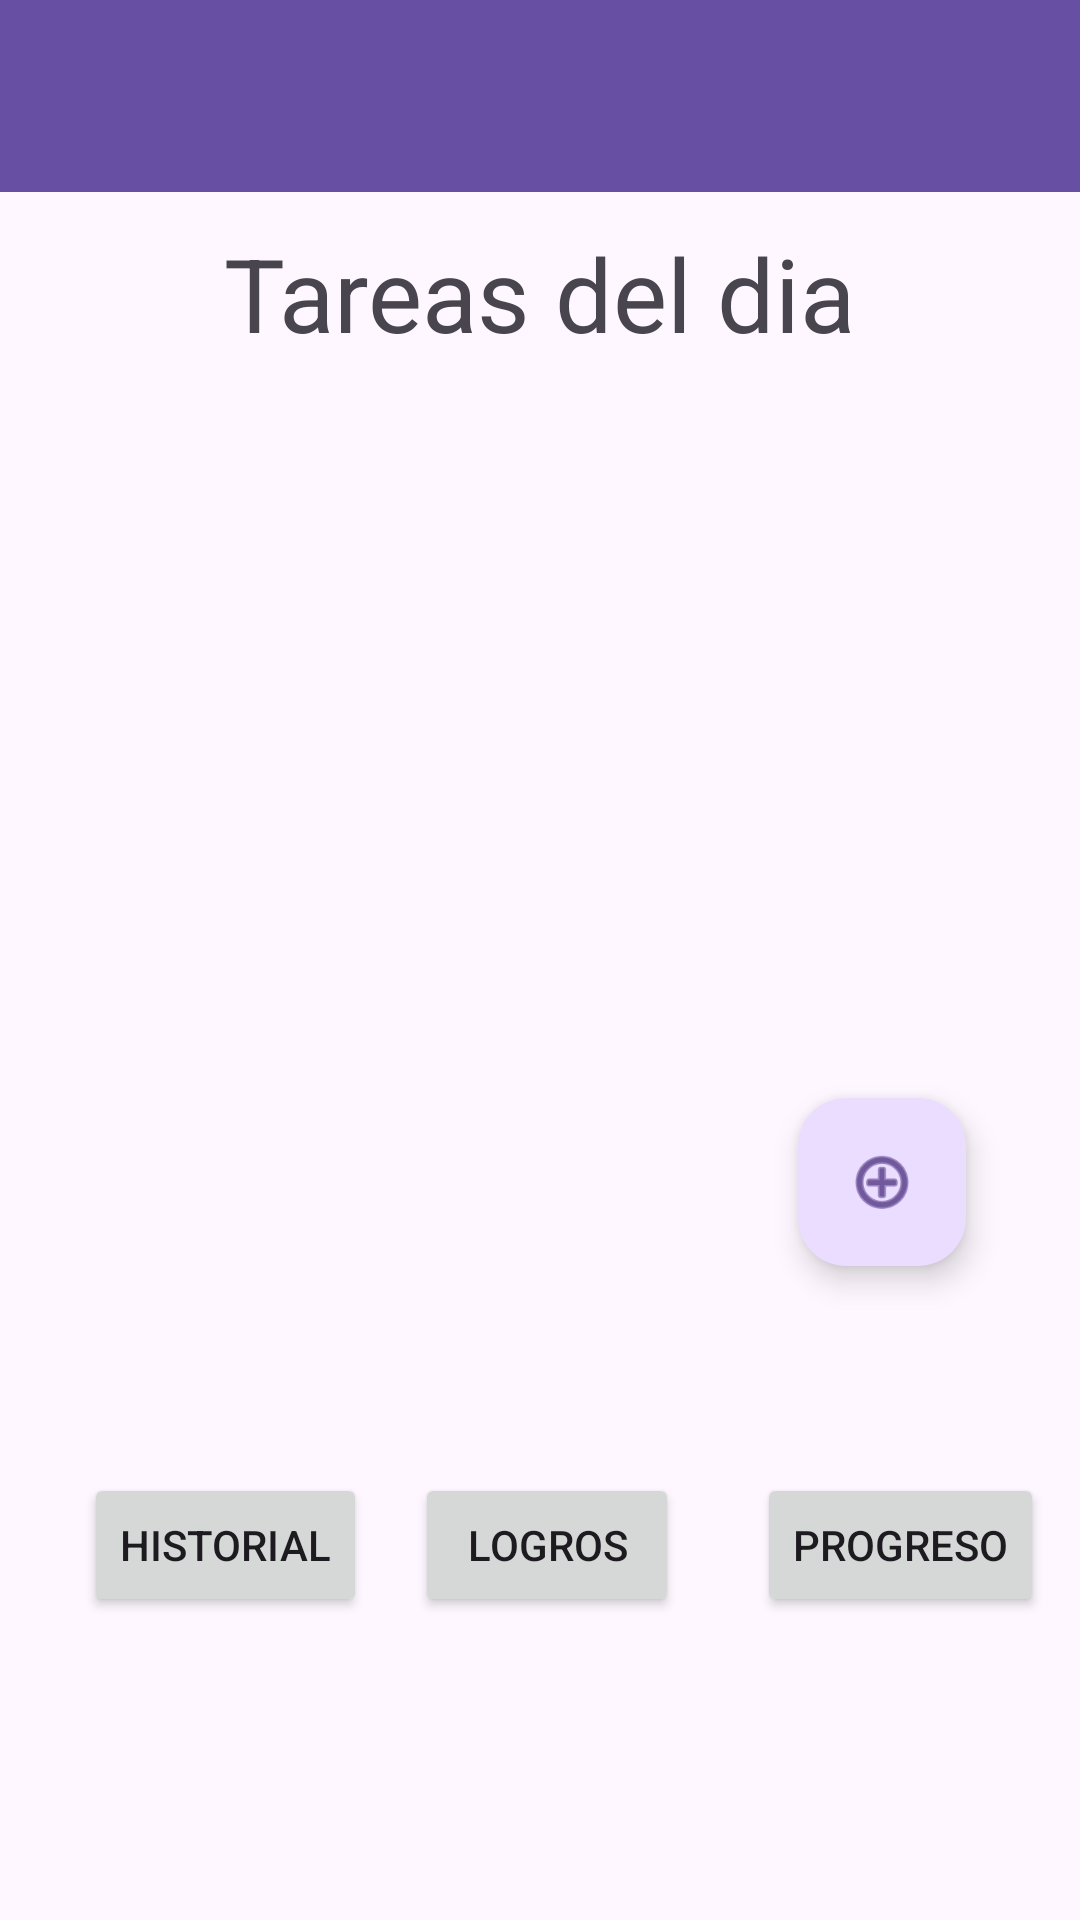

Where icons sit on this 1080px x 1920px app screen, as bbox=[x1, y1, x2, y2]:
add: bbox=[855, 1155, 909, 1209]
